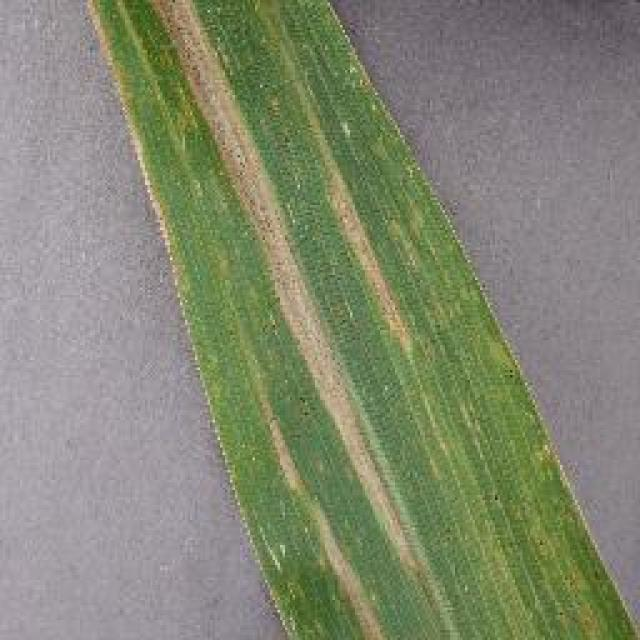Corn___Northern_Leaf_Blight: (38, 0, 632, 640)
